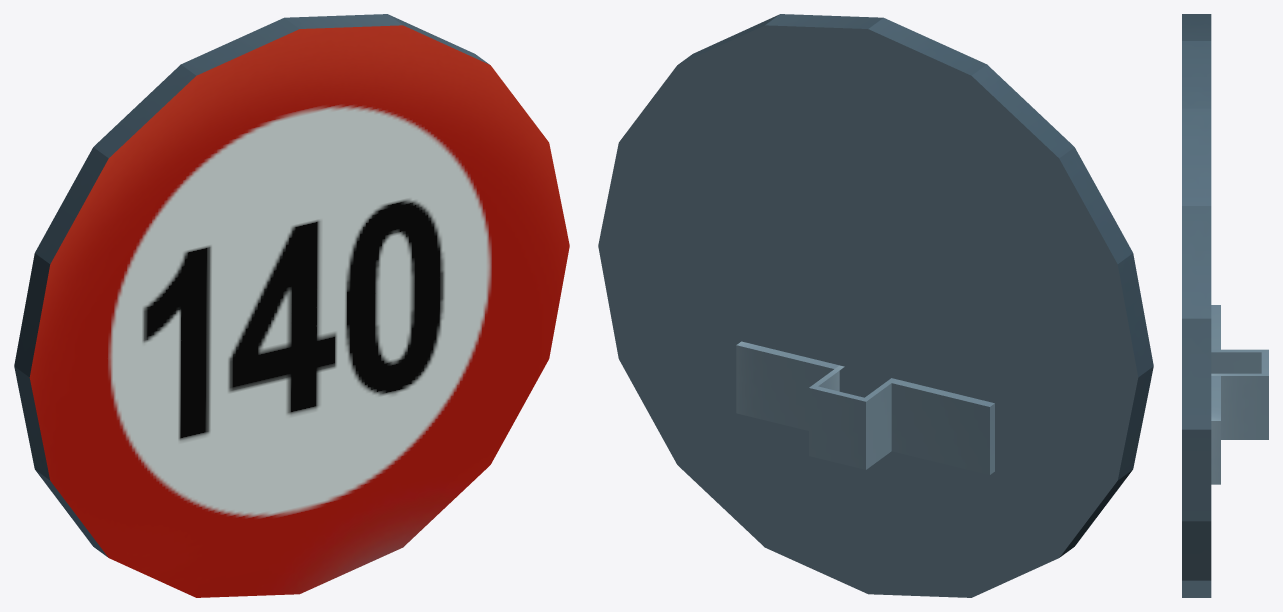
Rendered from Sign35Austrian.fbx.
3 renders of one model, left to right at view 1: azimuth 30°, elevation 25°; view 2: azimuth 150°, elevation 25°; view 3: azimuth 270°, elevation 25°, orthographic. The views are drawn at different scales.
Parts seen in each view (by area): view 1: Sign35Austrian; view 2: Sign35Austrian; view 3: Sign35Austrian.
Boxes of the visible parts, bbox=[...] form: Sign35Austrian: bbox=[14, 14, 569, 597]; Sign35Austrian: bbox=[598, 14, 1153, 597]; Sign35Austrian: bbox=[1182, 14, 1268, 597].
Size of the model in its own units: 1 by 1 by 0.1489.
